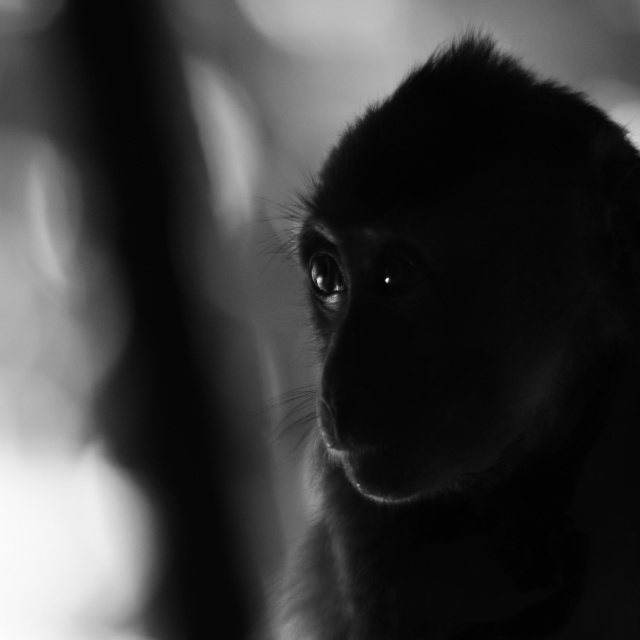Monkey: (274, 26, 640, 640)
